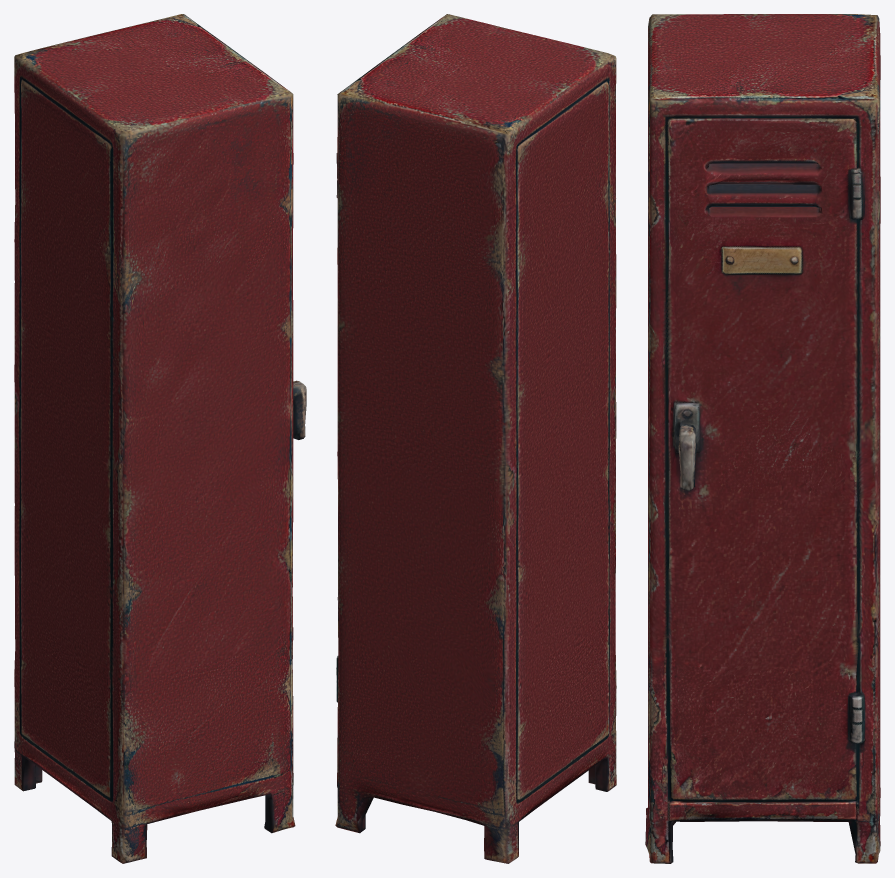
The model's file is SchoolLocker1.fbx.
3 views of the same model, side by side, from view 1: azimuth 30°, elevation 25°; view 2: azimuth 150°, elevation 25°; view 3: azimuth 270°, elevation 25° (orthographic). The views are drawn at different scales.
Parts seen in each view (by area): view 1: tripo_node_c0016dc3-e392-4f2b-824c-23112c8d05c1; view 2: tripo_node_c0016dc3-e392-4f2b-824c-23112c8d05c1; view 3: tripo_node_c0016dc3-e392-4f2b-824c-23112c8d05c1.
Boxes of the visible parts, bbox=[...] form: tripo_node_c0016dc3-e392-4f2b-824c-23112c8d05c1: bbox=[14, 14, 306, 863]; tripo_node_c0016dc3-e392-4f2b-824c-23112c8d05c1: bbox=[335, 14, 616, 863]; tripo_node_c0016dc3-e392-4f2b-824c-23112c8d05c1: bbox=[645, 14, 880, 863].
Size of the model in its own units: 28.92 by 100 by 27.85.
Materials: 1 (1 with a texture image).
